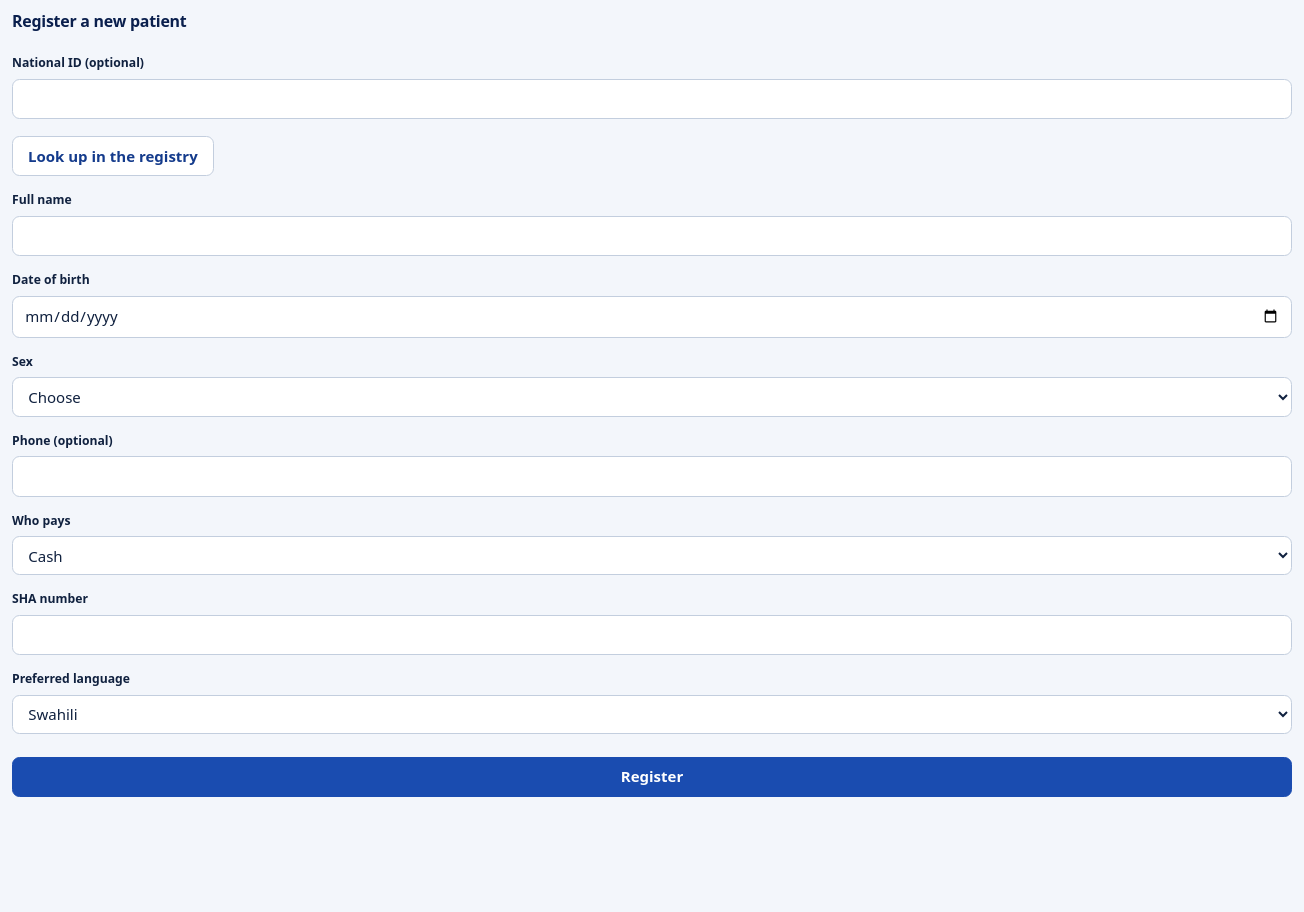
Registry lookup on the registration form › says so when the registry is not answering
The image size is (1304, 912).
Type "39999999" into the field labelled "National ID (optional)".
click(652, 99); type("39999999")  # box [12,79,1292,119]
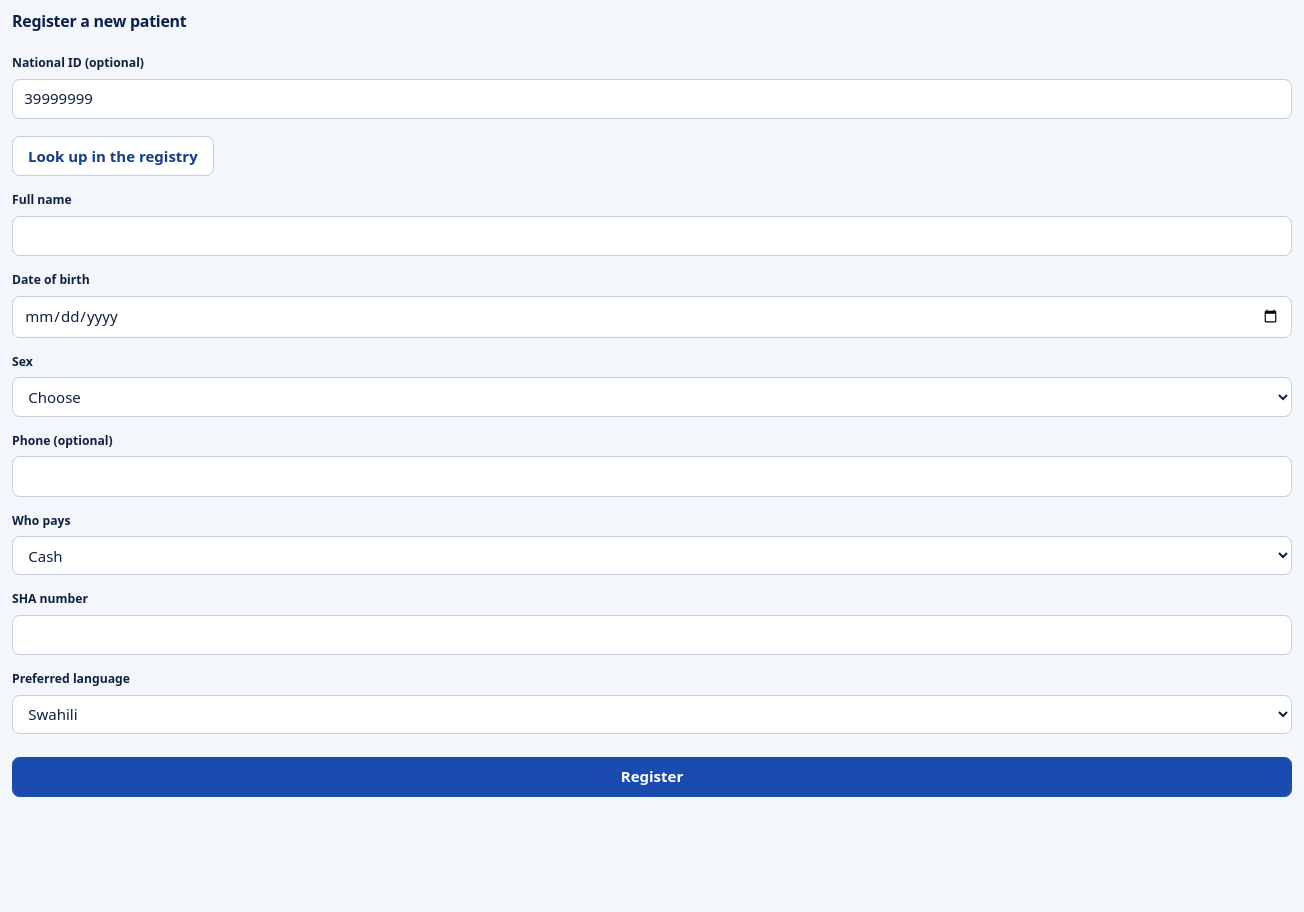
Click the button "Look up in the registry".
click(113, 156)  # box [12,136,214,176]
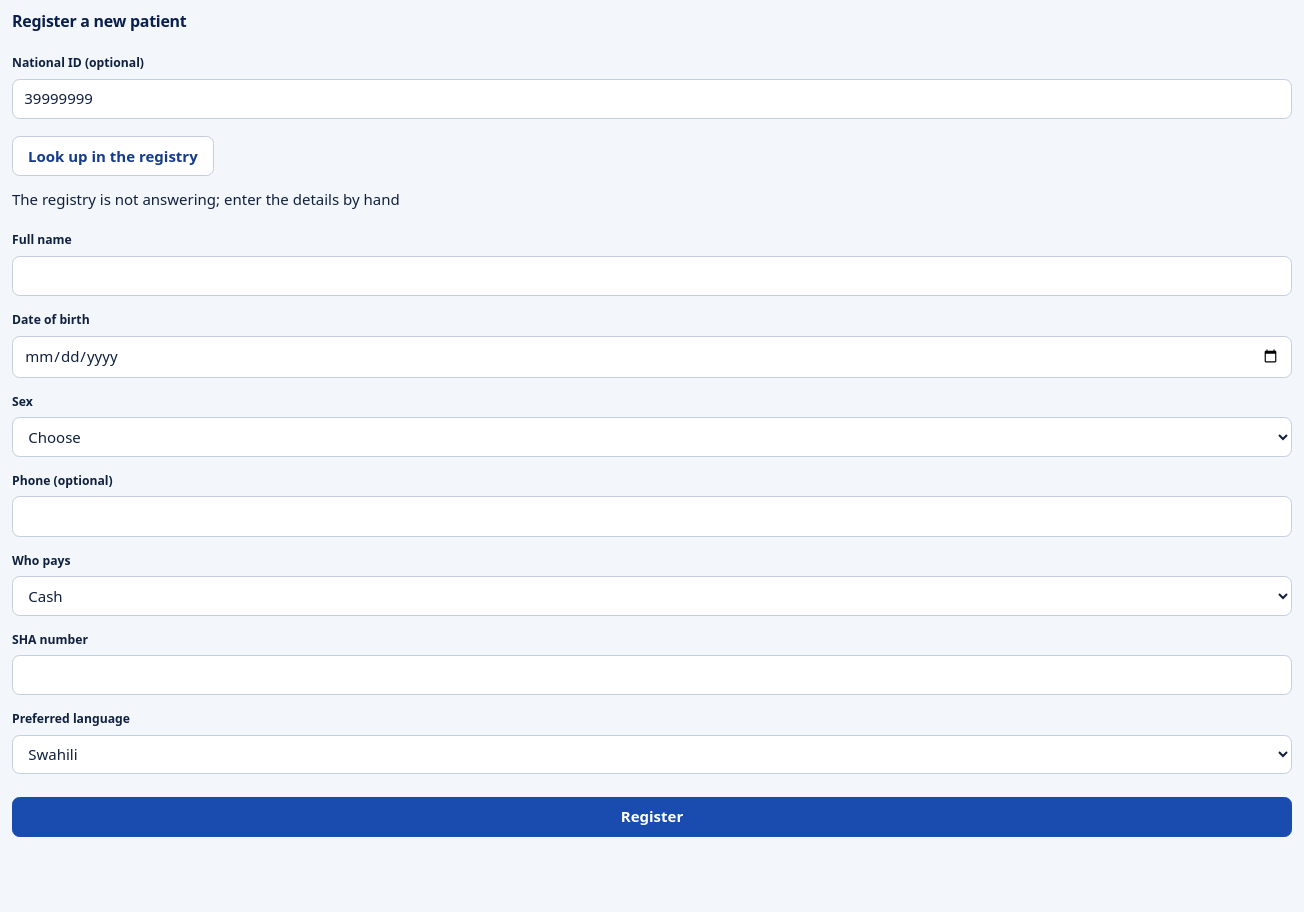
Expected: the text "The registry is not answering; enter the details by hand" is shown, [12,189,400,209]
